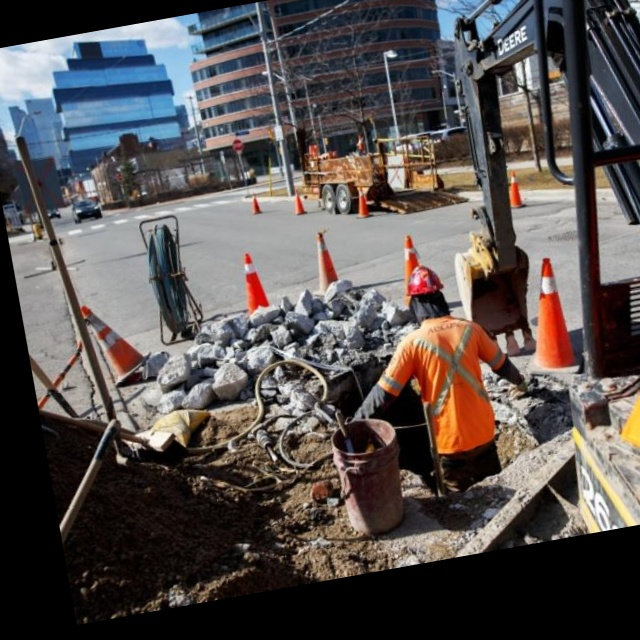Con_Casco: (405, 264, 446, 312)
Con_Chaleco: (408, 313, 499, 445)
